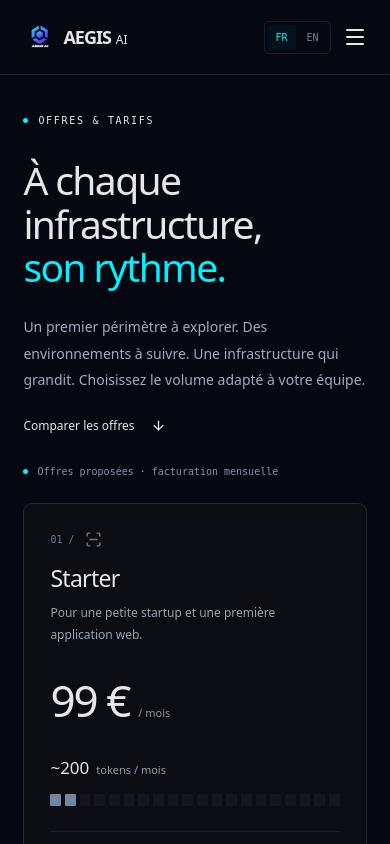
Test case: closes the navigation when moving back to the product
The image size is (390, 844).
Click the button named "Ouvrir le menu".
click(355, 37)  # box x1=343 y1=25 x2=367 y2=49
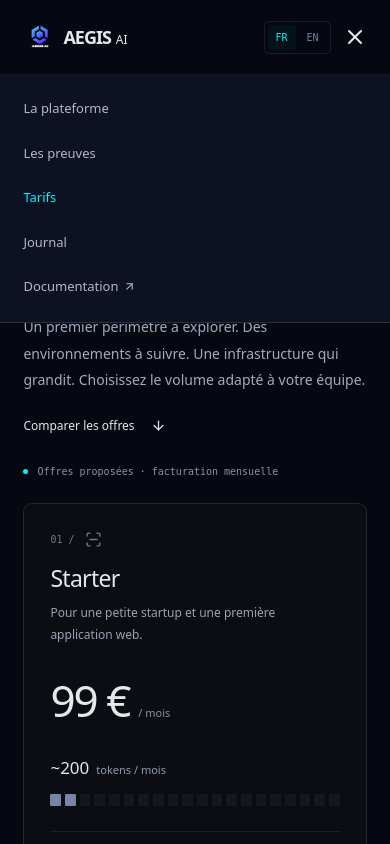
Click the link "La plateforme".
click(66, 108)  # box x1=23 y1=99 x2=109 y2=117
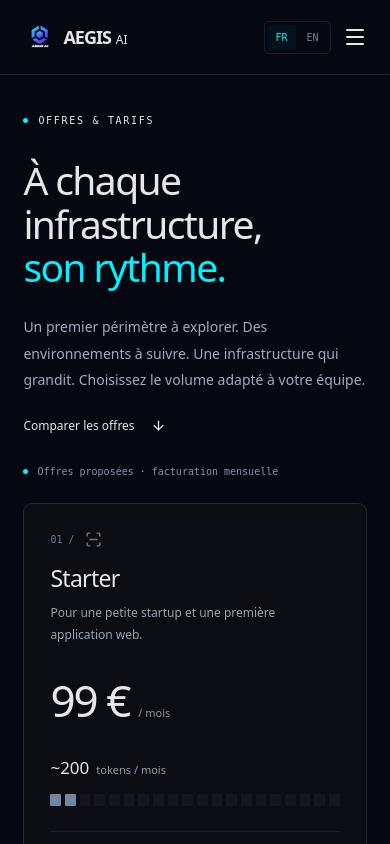
Now the button named "Ouvrir le menu" is collapsed
Click the button named "Ouvrir le menu".
click(355, 37)  # box x1=343 y1=25 x2=367 y2=49
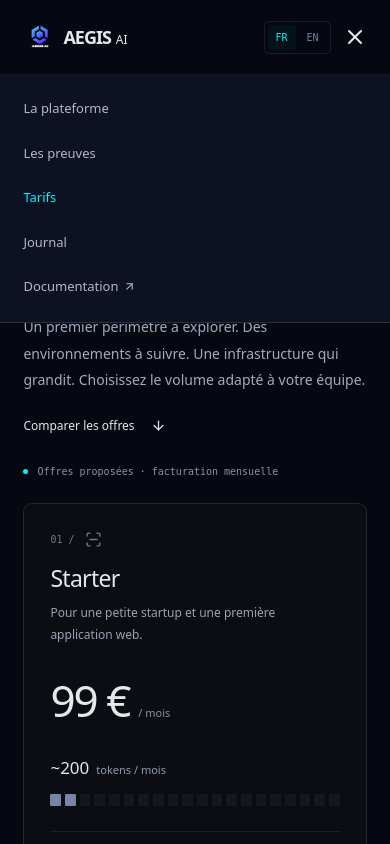
Click the link "Tarifs".
click(40, 197)  # box x1=23 y1=188 x2=56 y2=206
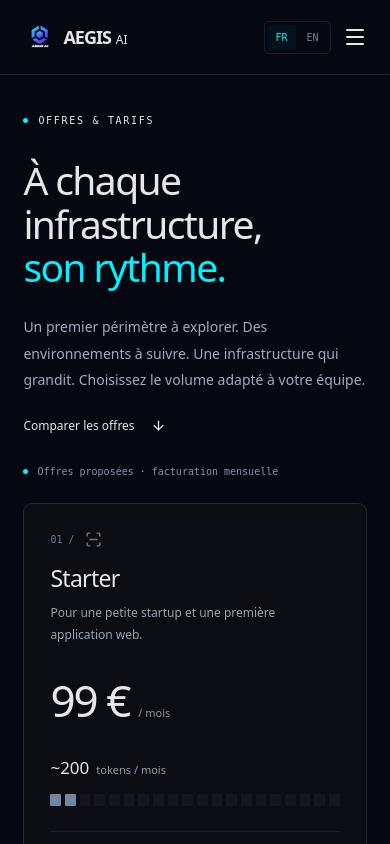
Now the button named "Ouvrir le menu" is collapsed, box x1=343 y1=25 x2=367 y2=49
